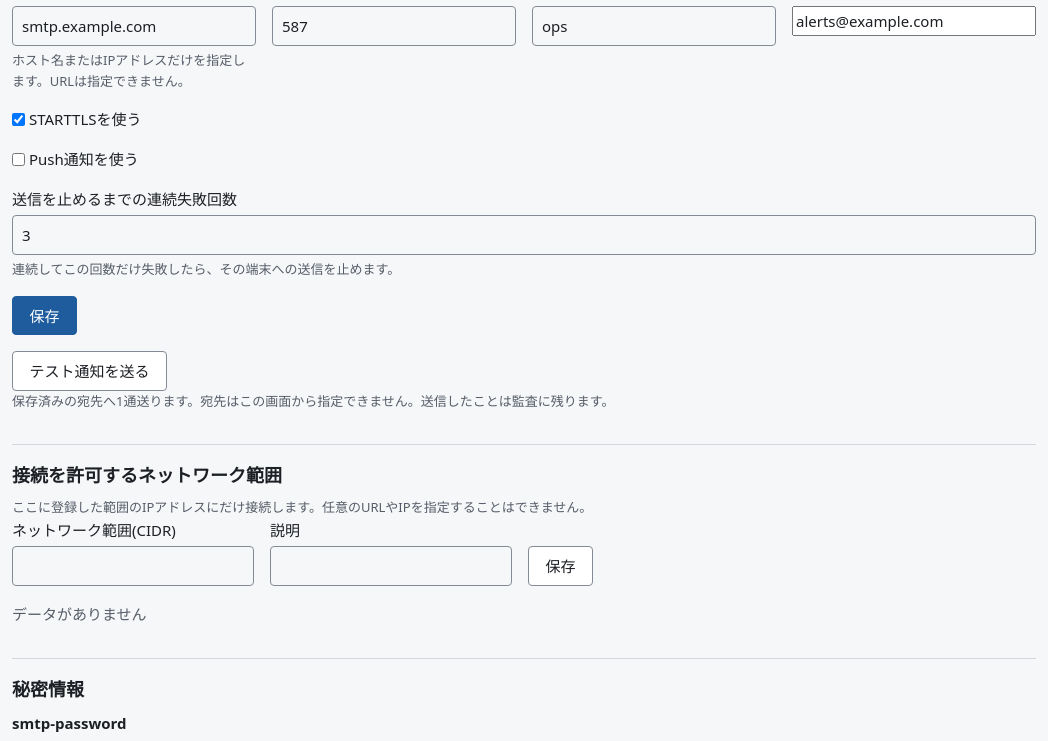
SettingsView の通知設定 › チャネルごとの結果を出す
(page scrolled)
What coordinates should you click on to do the following:
click the button with test id "test-notification"
I would click on:
 (90, 371)
Its box is [12, 351, 167, 391].
(page scrolled)
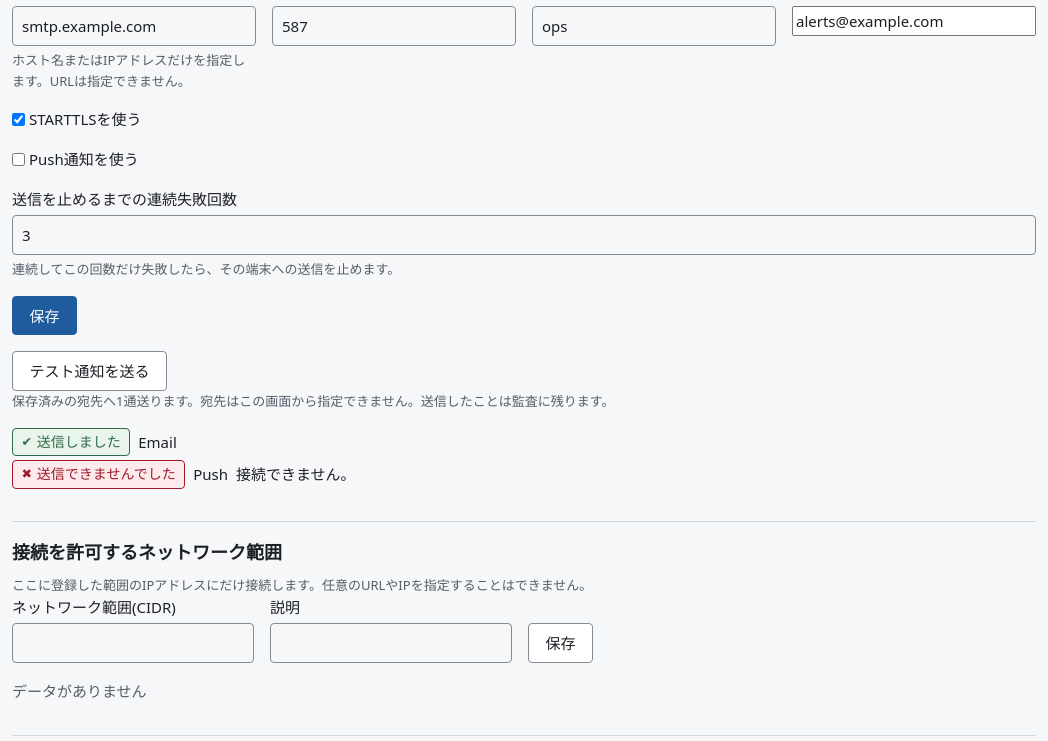
Check: the list with test id "notification-test-results" shows "Email", box [138, 432, 177, 452]
Check: the list with test id "notification-test-results" shows "送信しました", box [37, 432, 121, 451]
Check: the list with test id "notification-test-results" shows "Push", box [193, 464, 228, 484]
